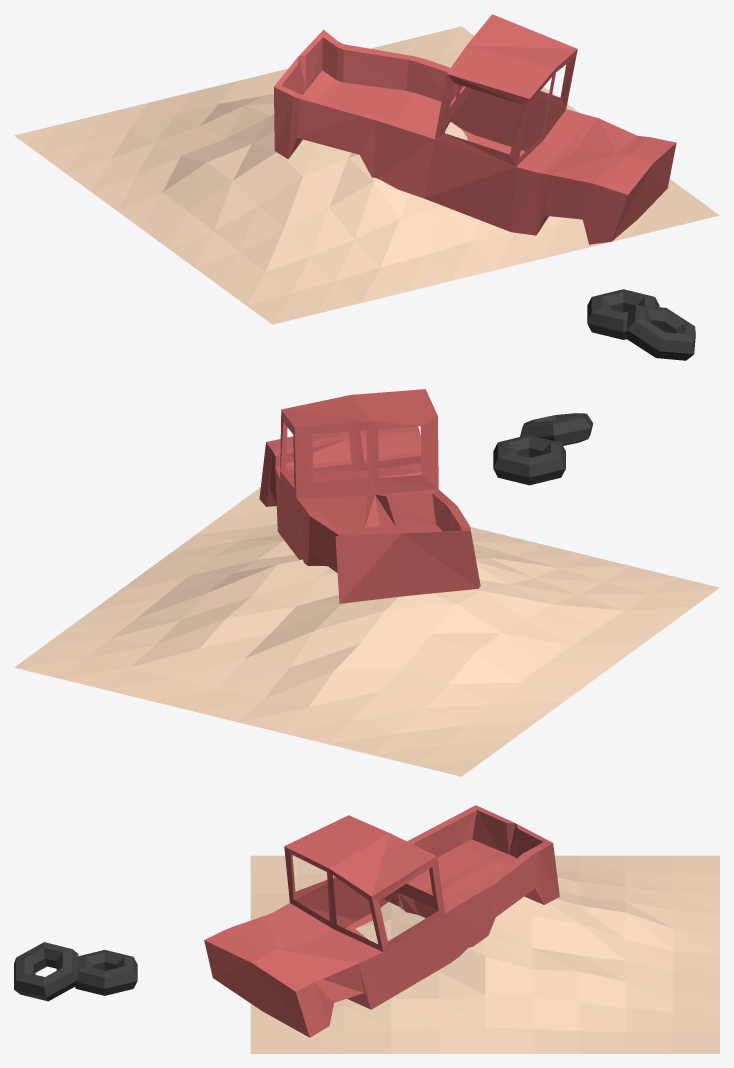
File: autowrack.fbx
3 renders of one model, top to bottom at view 1: azimuth 30°, elevation 25°; view 2: azimuth 150°, elevation 25°; view 3: azimuth 270°, elevation 25°, orthographic. The views are drawn at different scales.
Visible parts, largest first — view 1: Landschaft, Autowrack, Reifen, Reifen_2; view 2: Landschaft, Autowrack, Reifen_2, Reifen; view 3: Landschaft, Autowrack, Reifen, Reifen_2.
Part boxes in pixels (<box>): Landschaft: <box>14,26,719,324</box>; Autowrack: <box>274,14,676,244</box>; Reifen: <box>626,305,695,360</box>; Reifen_2: <box>587,289,659,339</box>; Landschaft: <box>14,487,719,776</box>; Autowrack: <box>259,389,480,603</box>; Reifen_2: <box>493,434,565,485</box>; Reifen: <box>520,413,593,445</box>; Landschaft: <box>250,855,719,1053</box>; Autowrack: <box>204,805,559,1037</box>; Reifen: <box>14,942,78,1001</box>; Reifen_2: <box>75,950,137,995</box>.
Size of the model in its own units: 600 by 217 by 903.
